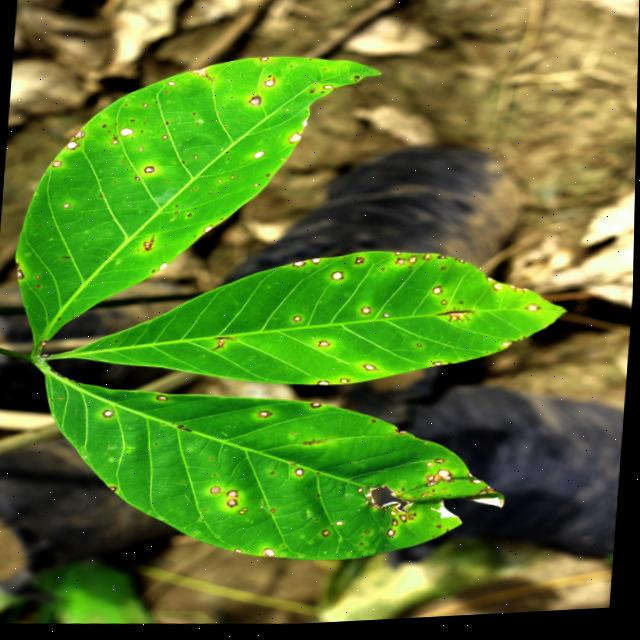Colletotrichum: (247, 98, 261, 110), (120, 128, 134, 138), (264, 552, 278, 561), (432, 290, 444, 300), (259, 413, 274, 421), (263, 81, 275, 91), (332, 275, 345, 284), (227, 501, 240, 510), (407, 260, 418, 270), (254, 153, 265, 163), (228, 492, 240, 501), (293, 263, 306, 271), (493, 287, 503, 297), (74, 131, 84, 141), (395, 262, 406, 271), (365, 367, 377, 375), (310, 261, 322, 269), (157, 396, 169, 404), (318, 383, 331, 390), (400, 519, 410, 528), (104, 410, 114, 419), (319, 344, 331, 351), (361, 311, 371, 319), (296, 472, 306, 480), (212, 489, 222, 497), (144, 167, 154, 175), (312, 406, 323, 413), (388, 533, 397, 541), (323, 533, 333, 540), (424, 258, 432, 266), (53, 161, 62, 168), (393, 523, 400, 531), (410, 517, 418, 524), (472, 484, 483, 489), (322, 88, 333, 93), (356, 262, 365, 268), (294, 319, 302, 325), (109, 488, 118, 493), (341, 383, 351, 387), (235, 551, 243, 556), (259, 61, 268, 65), (427, 467, 434, 472), (167, 83, 174, 88), (337, 525, 345, 529), (366, 504, 372, 509), (253, 185, 259, 190), (359, 492, 364, 497), (384, 318, 390, 322), (162, 137, 168, 141), (142, 105, 148, 109), (63, 205, 69, 209), (442, 306, 447, 310), (135, 178, 140, 182), (272, 512, 276, 517), (459, 265, 465, 268), (112, 142, 118, 145), (367, 534, 371, 538), (139, 149, 143, 153), (188, 216, 192, 220), (240, 513, 245, 516), (418, 348, 422, 351), (267, 78, 271, 81), (218, 182, 222, 185), (244, 511, 248, 514), (36, 277, 40, 279), (319, 498, 322, 500)
Corynespora: (435, 311, 477, 329), (211, 339, 238, 355), (143, 235, 156, 253)
Leaf-Blight: (431, 503, 460, 525), (468, 500, 507, 515)
